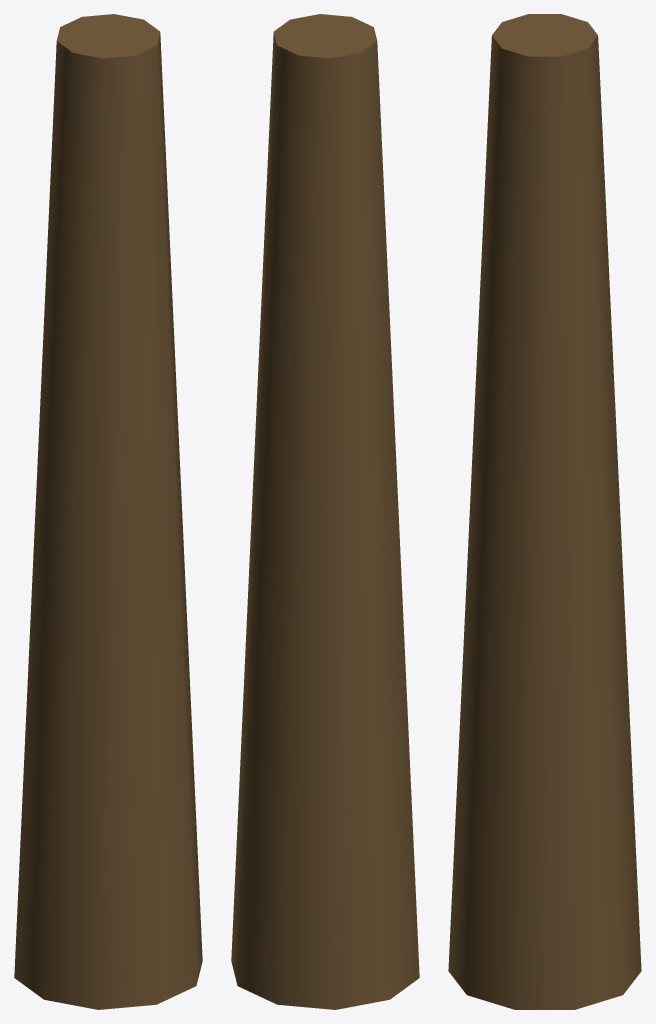
The model's file is branch-north.glb.
3 renders of one model, left to right at view 1: azimuth 30°, elevation 25°; view 2: azimuth 150°, elevation 25°; view 3: azimuth 270°, elevation 25°, orthographic.
Parts seen in each view (by area): view 1: Branch north; view 2: Branch north; view 3: Branch north.
Boxes of the visible parts, box(x1,y1,x2,y2) form: Branch north: box(14, 14, 202, 1009); Branch north: box(231, 14, 419, 1009); Branch north: box(448, 14, 641, 1009).
Bounding box in the file's own units: 6.14 × 34.53 × 6.46.
